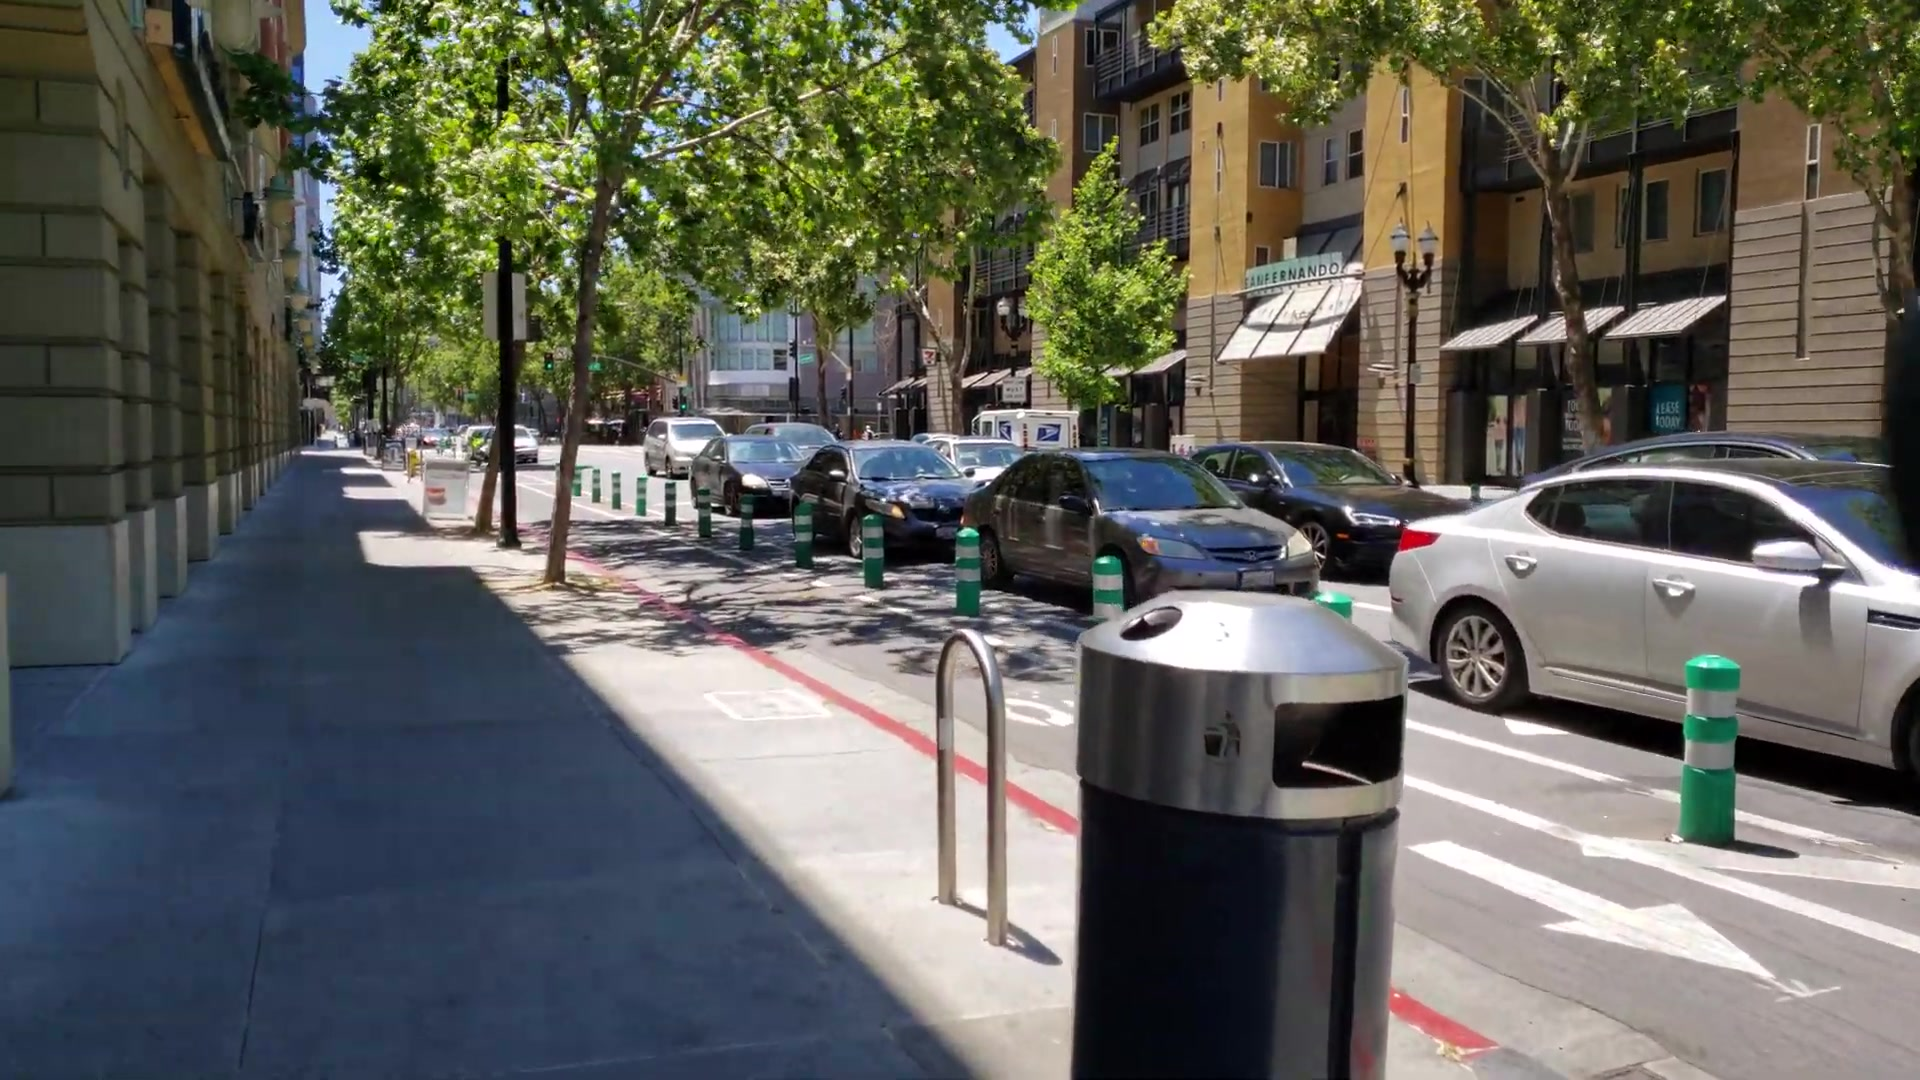vehicle: (1389, 459, 1920, 777), (967, 451, 1319, 620), (793, 440, 978, 554), (691, 436, 807, 510)
